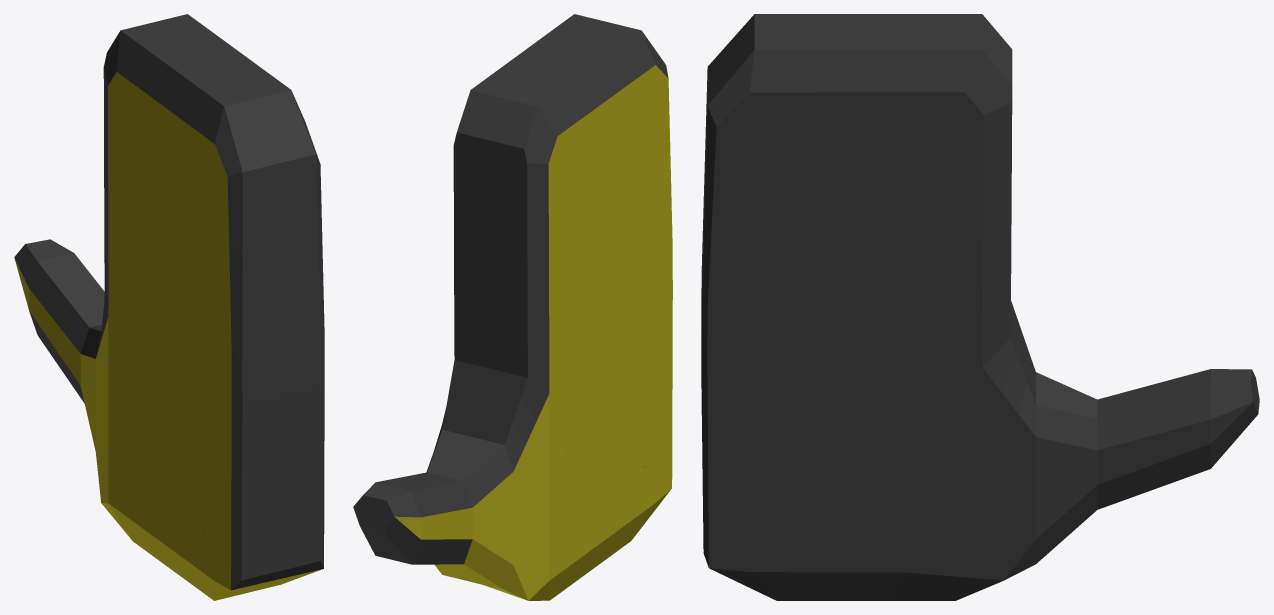
Rendered from handrechts.fbx.
The picture shows the model from 3 angles, left to right: view 1: azimuth 30°, elevation 25°; view 2: azimuth 150°, elevation 25°; view 3: azimuth 270°, elevation 25°; orthographic projection. The views are drawn at different scales.
Visible parts, largest first — view 1: Cube; view 2: Cube; view 3: Cube.
Boxes of the visible parts, x1=… form: Cube: x1=14, y1=14, x2=324, y2=600; Cube: x1=353, y1=14, x2=672, y2=600; Cube: x1=701, y1=14, x2=1259, y2=600.
Size of the model in its own units: 0.0764 by 0.4011 by 0.3685.
Materials: 1 (1 with a texture image).
